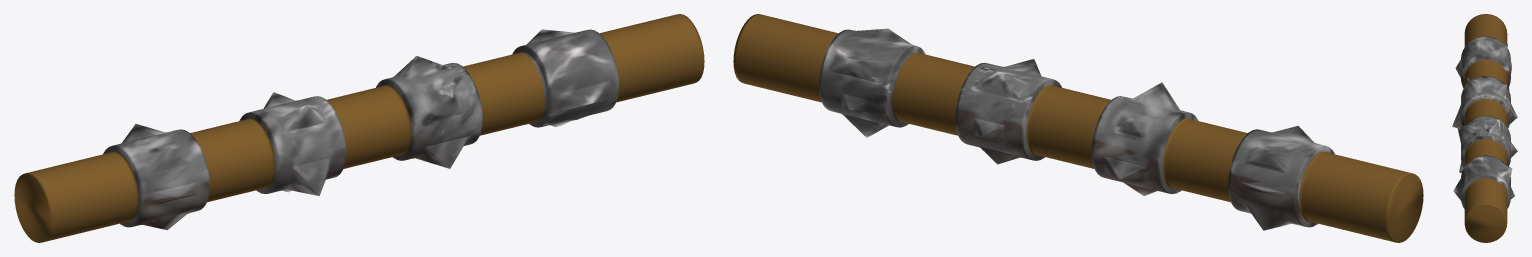
Rendered from JumpLog.fbx.
The picture shows the model from 3 angles, left to right: view 1: azimuth 30°, elevation 25°; view 2: azimuth 150°, elevation 25°; view 3: azimuth 270°, elevation 25°; orthographic projection. The views are drawn at different scales.
Visible parts, largest first — view 1: Cylinder; view 2: Cylinder; view 3: Cylinder.
Part boxes in pixels (<box>): Cylinder: <box>14,14,704,242</box>; Cylinder: <box>733,14,1423,242</box>; Cylinder: <box>1452,14,1517,242</box>.
Bounding box in the file's own units: 1056 × 163 × 154.
Materials: 2 (1 with a texture image).
